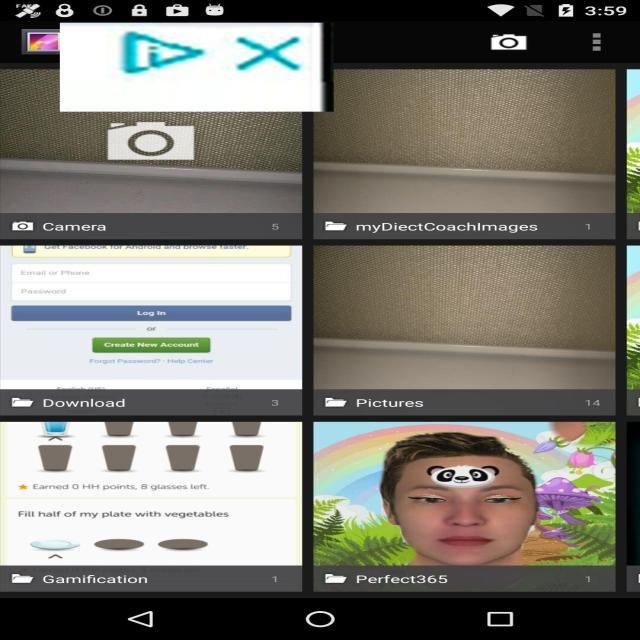sneaking: (59, 22, 333, 112)
